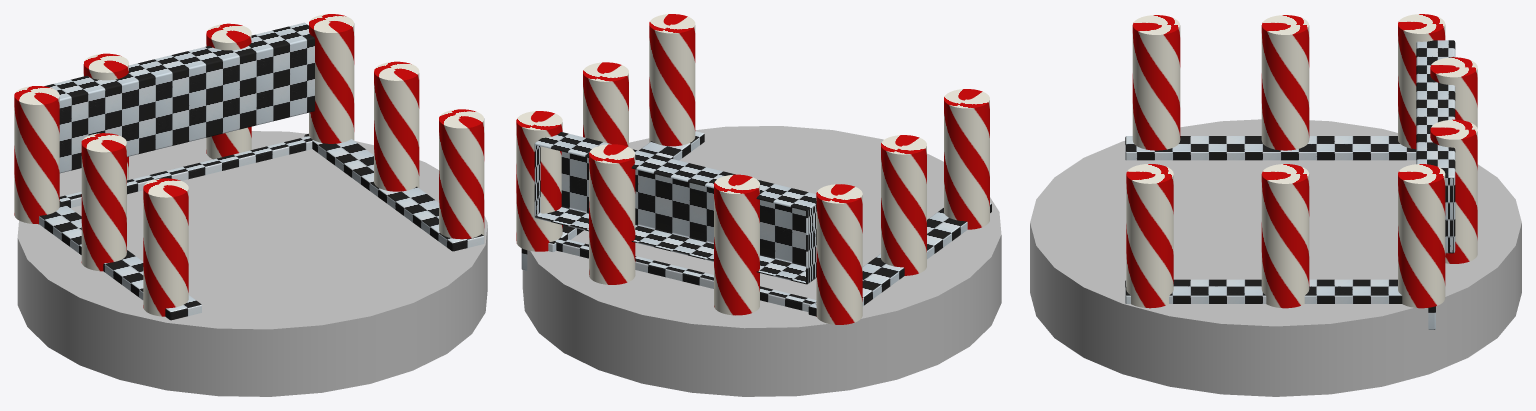
The model's file is GameScene.FBX.
The picture shows the model from 3 angles, left to right: view 1: azimuth 30°, elevation 25°; view 2: azimuth 150°, elevation 25°; view 3: azimuth 270°, elevation 25°; orthographic projection. The views are drawn at different scales.
Visible parts, largest first — view 1: GameRoom; view 2: GameRoom; view 3: GameRoom.
Boxes of the visible parts, x1,y1,x2,y2 form: GameRoom: (14, 14, 487, 396); GameRoom: (516, 14, 1001, 396); GameRoom: (1030, 14, 1521, 396).
Bounding box in the file's own units: 380 × 380 × 166.
